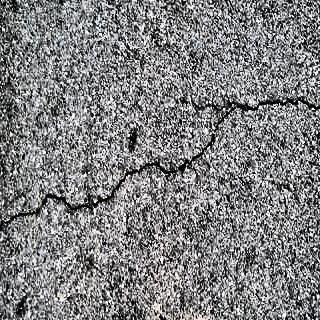crack: (181, 88, 320, 150), (109, 144, 210, 202), (1, 182, 122, 228)
